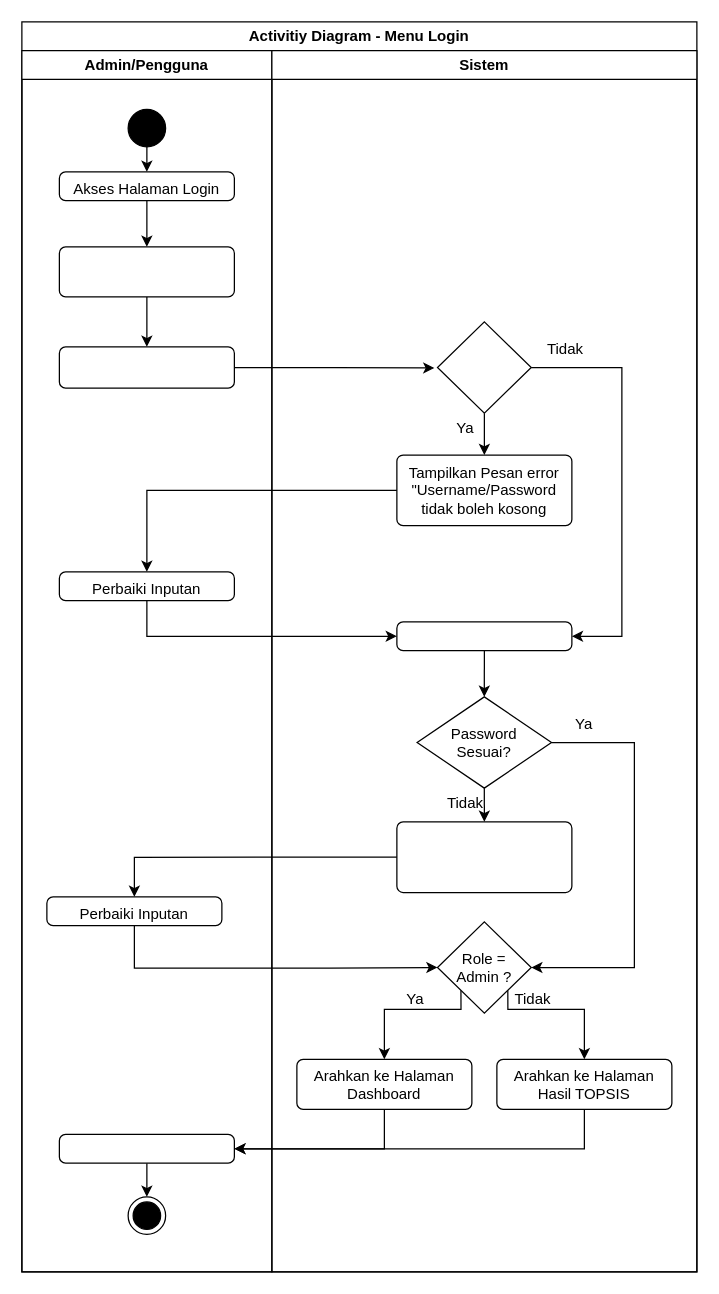
Image size: 719x1294. Some labels were removed from this diagram. Each missing label, with the centre of its shape:
Input Kosong?: (x=483, y=367)
Input Username dan Password: (x=146, y=271)
Klik tombol "Masuk": (x=146, y=367)
Melihat Halaman Utama: (x=146, y=1148)
Tampilkan Pesan error "Username atau Password salah": (x=484, y=856)
Verifikasi Password: (x=484, y=636)
